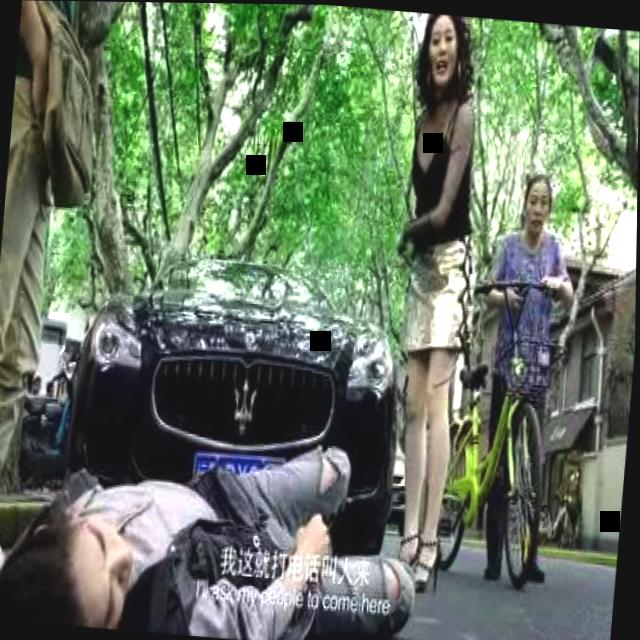Fall-Detected: (0, 389, 416, 640)
